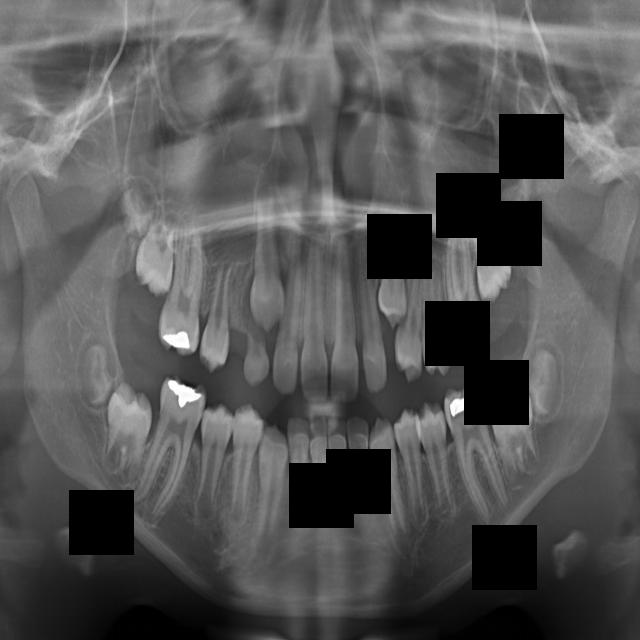3M ESPE Implant: (111, 178, 158, 239)
AGS Medikal Implant: (353, 232, 389, 394)
AMerOss Implant: (373, 211, 412, 330)
Amalgam filling: (394, 255, 422, 383)
Anthogyr Implant: (414, 245, 455, 377)
Bicon Implant: (440, 223, 492, 362)
BioHorizons Implant: (464, 199, 518, 306)
BioLife Implant: (494, 183, 530, 249)
Biomet 3i Implant: (526, 346, 560, 418)
Blue Sky Bio Implant: (483, 379, 549, 491)
Camlog Implant: (439, 375, 516, 533)
Caries: (131, 200, 180, 298)
Composite filling: (417, 399, 458, 533)
Cowellmedi Implant: (392, 406, 433, 532)
Crown: (365, 414, 412, 552)
DENTSPLY Implant: (346, 412, 373, 530)
Dentatus Implant: (323, 413, 358, 532)
Dentis Implant: (306, 413, 334, 525)
Dentium Implant: (285, 414, 318, 526)
Euroteknika Implant: (251, 422, 290, 561)
Filling: (226, 402, 265, 526)
Frontier Implant: (194, 403, 234, 526)
Hiossen Implant: (156, 212, 207, 358)
Implant: (101, 379, 155, 490)
Implant Direct: (124, 372, 212, 528)
Keystone Dental Implant: (82, 343, 116, 407)
MIS Implant: (199, 254, 232, 374)
Mandible: (243, 283, 272, 389)
Maxilla: (242, 177, 288, 329)
Megagen Implant: (272, 225, 303, 398)
Neodent Implant: (296, 231, 329, 406)
Neoss Implant: (330, 229, 359, 408)
